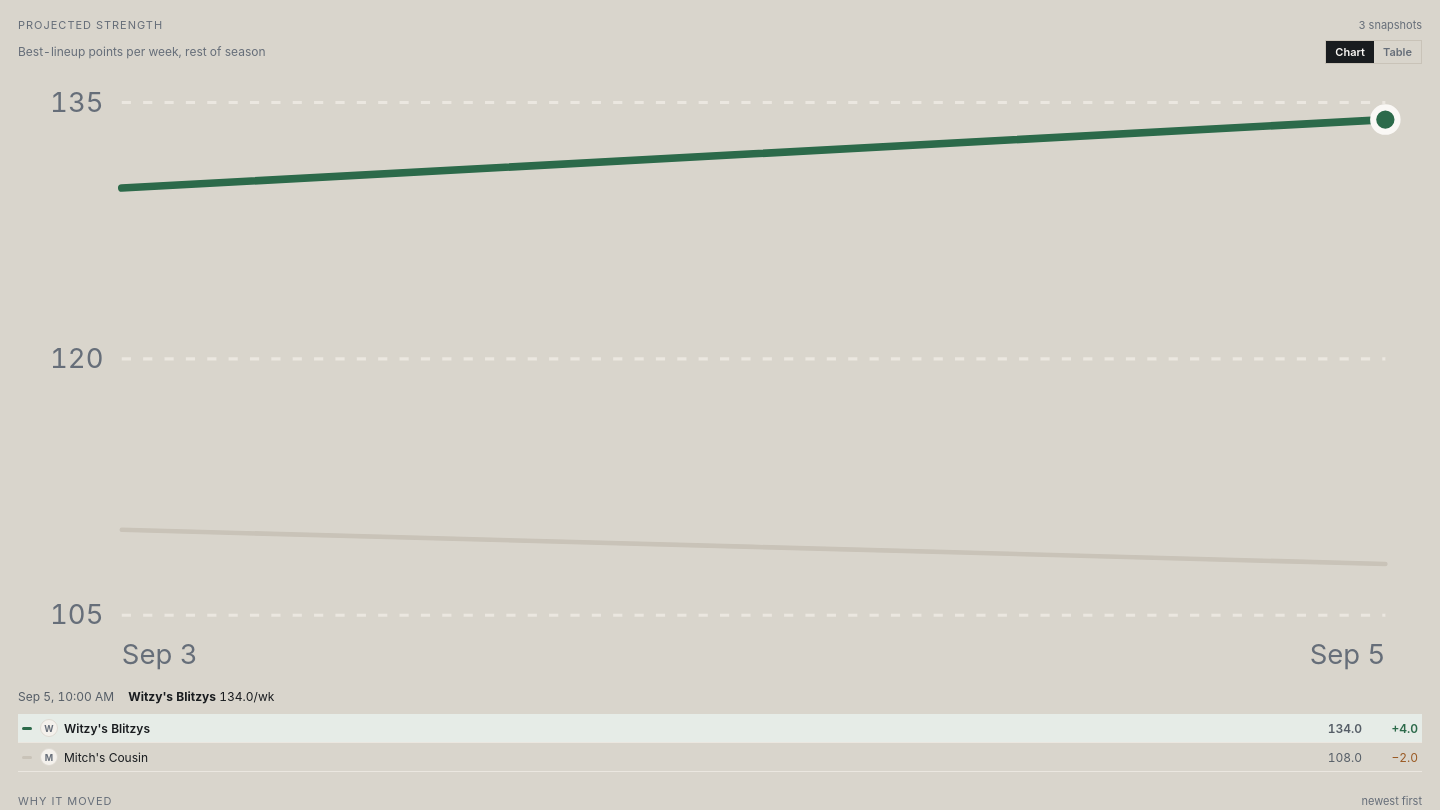
Test case: TrendsTab › hides the chart in table mode but keeps the legend
Click the button "Table". click: (1398, 52)
box: [1374,41,1421,63]
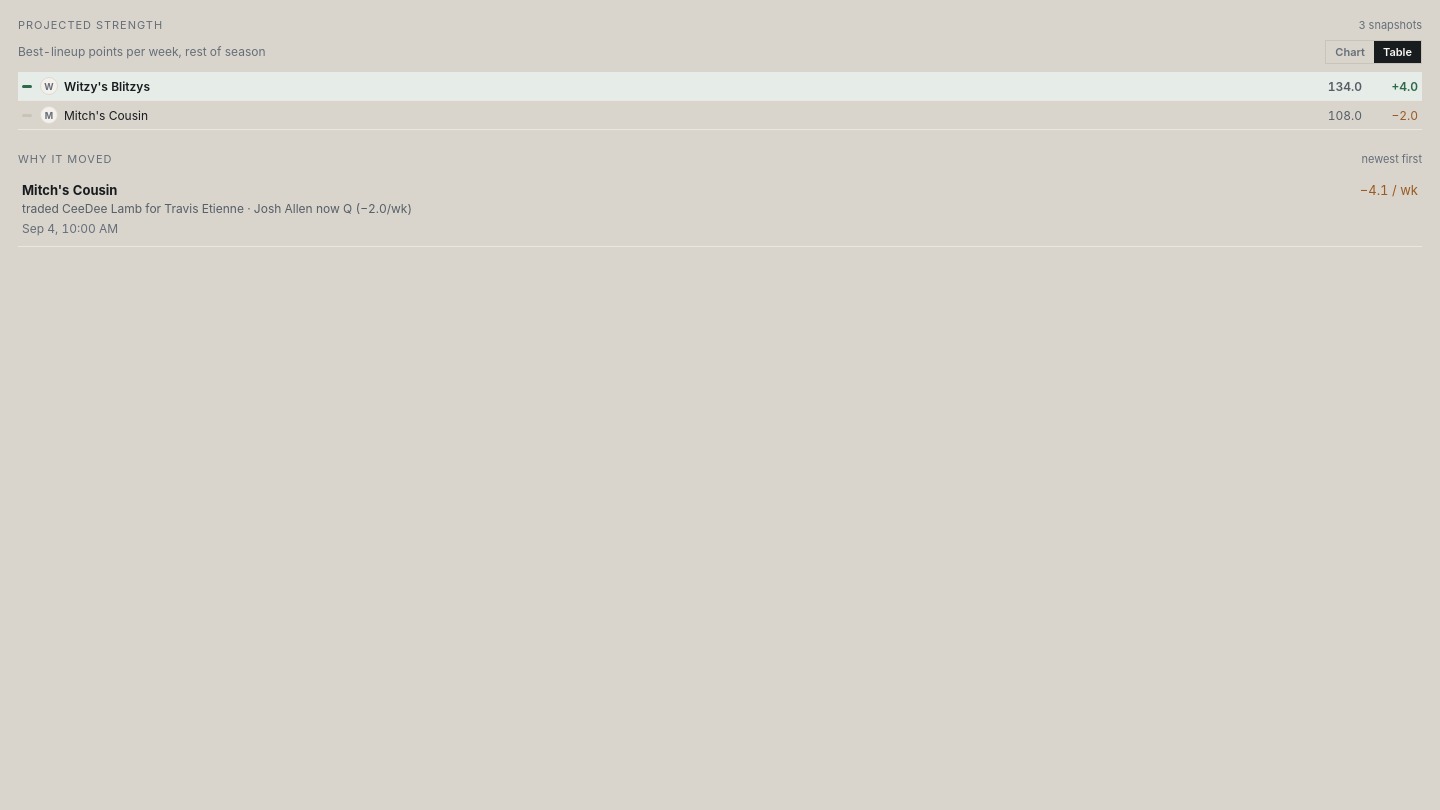
Check: the button "W Witzy's Blitzys 134.0 +4.0" is shown, box [18,72,1422,101]
Check: the picture is gone
